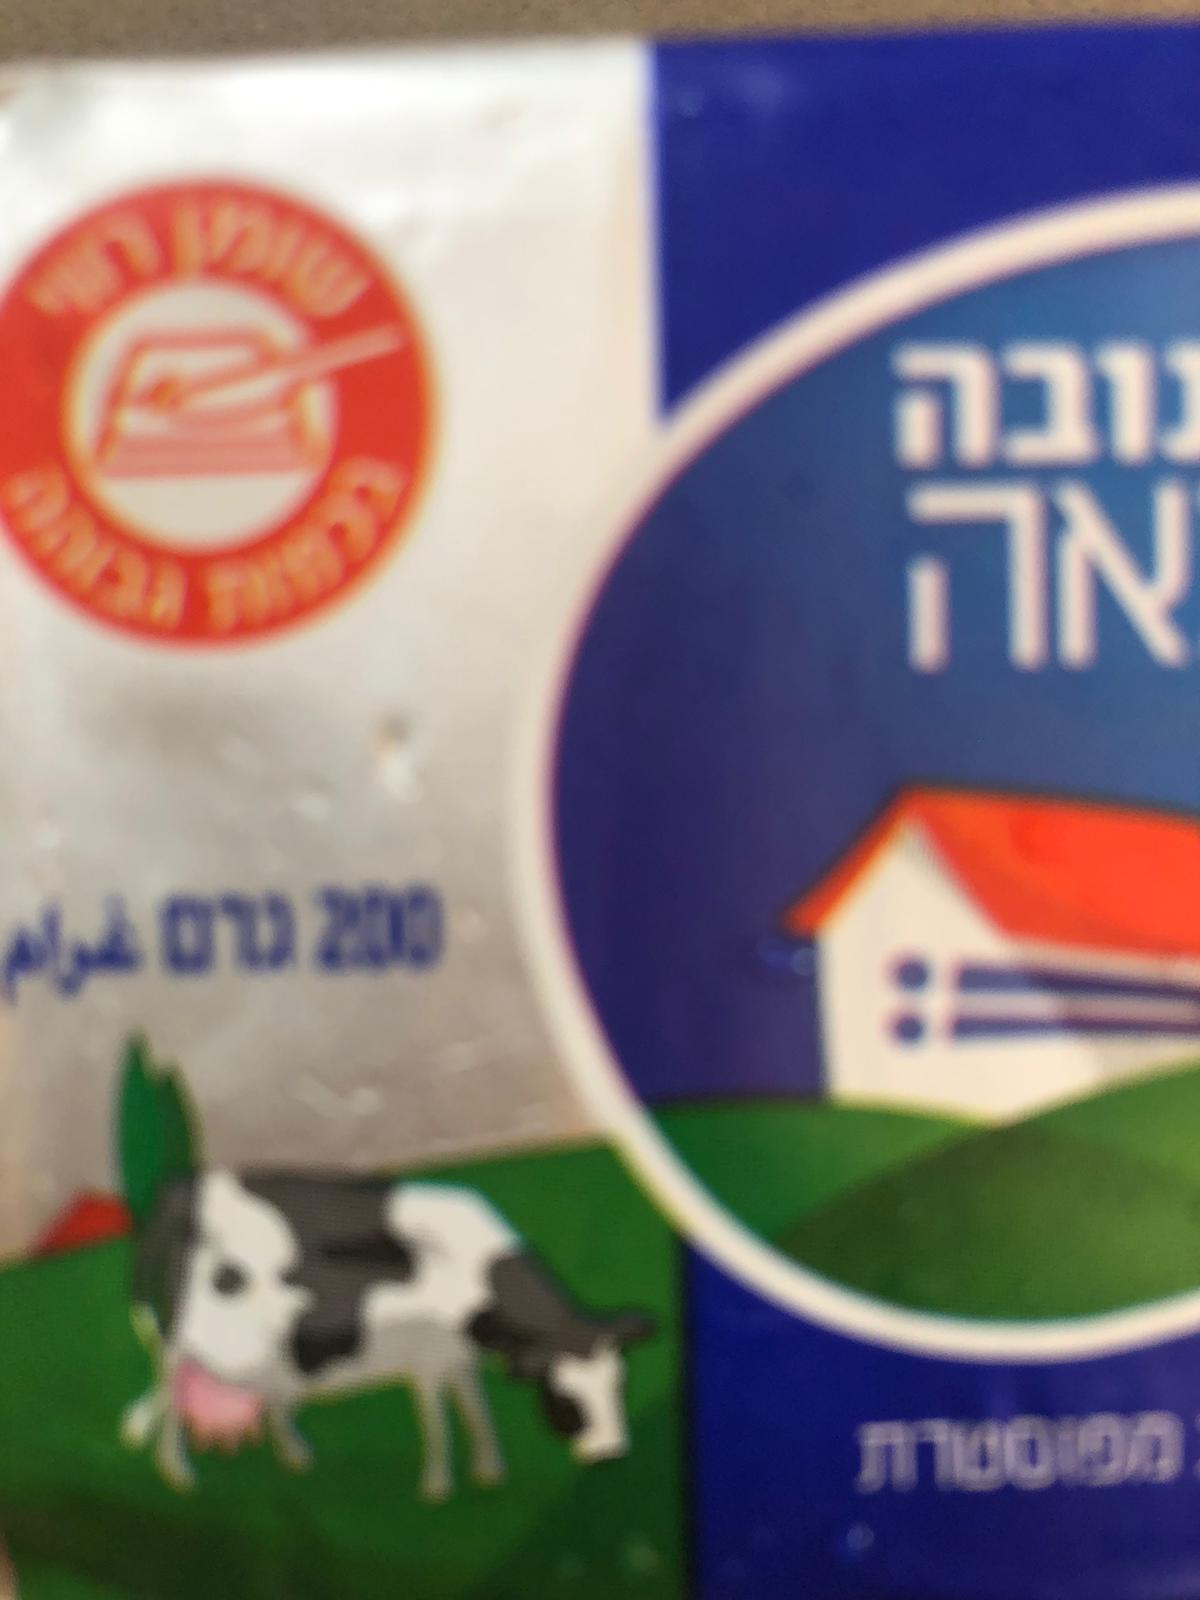fat: (1, 173, 449, 656)
